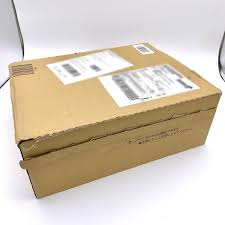undamaged: (9, 43, 221, 201)
